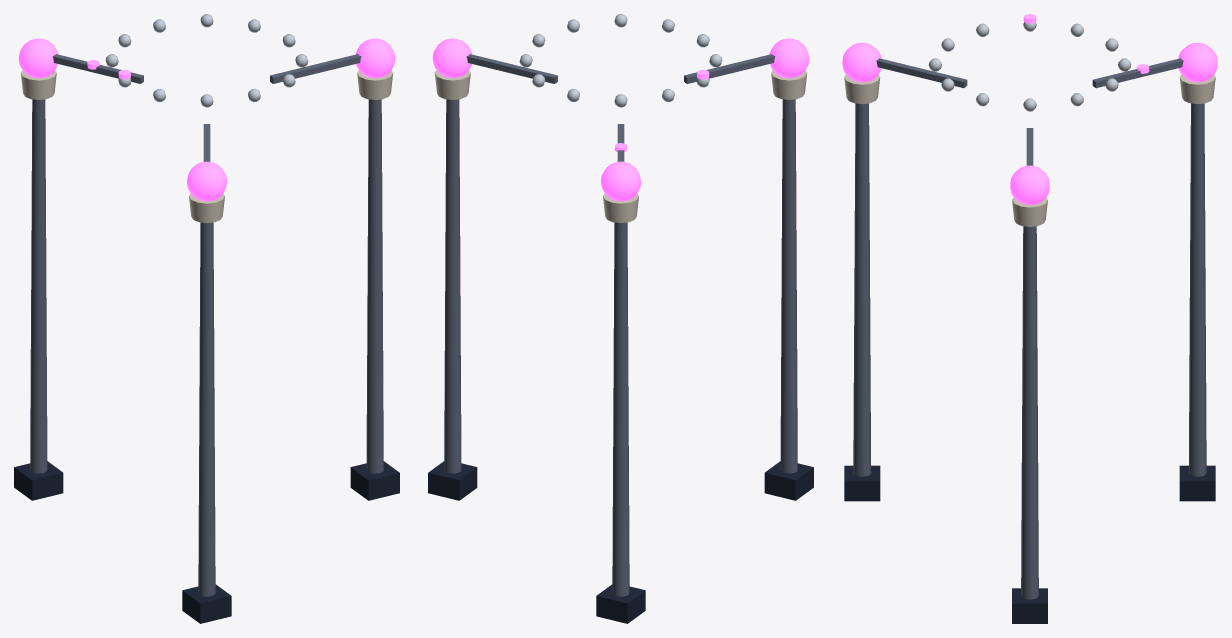
File: tower_arc_range_s4.glb
3 views of the same model, side by side, from view 1: azimuth 30°, elevation 25°; view 2: azimuth 150°, elevation 25°; view 3: azimuth 270°, elevation 25° (orthographic).
Parts seen in each view (by area): view 1: arc_sat_strut2, arc_sat_strut0, arc_sat_strut1, arc_sat_foot1, arc_sat_foot2, arc_sat_foot0, arc_sat_electrode2, arc_sat_electrode1, arc_sat_electrode0, arc_guide_arm1, arc_sat_insulator0, arc_sat_insulator1 (+2 smaller); view 2: arc_sat_strut0, arc_sat_strut1, arc_sat_strut2, arc_sat_foot1, arc_sat_foot0, arc_sat_foot2, arc_sat_electrode0, arc_sat_electrode1, arc_sat_electrode2, arc_guide_arm1, arc_sat_insulator1, arc_sat_insulator2 (+2 smaller); view 3: arc_sat_strut0, arc_sat_strut2, arc_sat_strut1, arc_sat_electrode1, arc_sat_electrode0, arc_sat_electrode2, arc_sat_foot0, arc_sat_foot2, arc_sat_foot1, arc_guide_arm2, arc_sat_insulator1, arc_guide_arm0 (+2 smaller).
Part boxes in pixels (left/top/right/bottom): arc_sat_strut2: left=198, top=222, right=215, bottom=596; arc_sat_strut0: left=30, top=99, right=47, bottom=473; arc_sat_strut1: left=366, top=99, right=383, bottom=473; arc_sat_foot1: left=350, top=461, right=399, bottom=500; arc_sat_foot2: left=182, top=584, right=231, bottom=623; arc_sat_foot0: left=14, top=461, right=63, bottom=500; arc_sat_electrode2: left=186, top=161, right=227, bottom=201; arc_sat_electrode1: left=355, top=38, right=395, bottom=78; arc_sat_electrode0: left=18, top=38, right=58, bottom=78; arc_guide_arm1: left=270, top=54, right=361, bottom=83; arc_sat_insulator0: left=20, top=70, right=56, bottom=99; arc_sat_insulator1: left=357, top=70, right=393, bottom=99; arc_sat_strut0: left=612, top=222, right=629, bottom=596; arc_sat_strut1: left=444, top=99, right=461, bottom=473; arc_sat_strut2: left=780, top=99, right=797, bottom=473; arc_sat_foot1: left=428, top=461, right=477, bottom=500; arc_sat_foot0: left=596, top=584, right=645, bottom=623; arc_sat_foot2: left=764, top=461, right=813, bottom=500; arc_sat_electrode0: left=600, top=161, right=641, bottom=201; arc_sat_electrode1: left=432, top=38, right=472, bottom=78; arc_sat_electrode2: left=769, top=38, right=809, bottom=78; arc_guide_arm1: left=466, top=54, right=557, bottom=83; arc_sat_insulator1: left=434, top=70, right=470, bottom=99; arc_sat_insulator2: left=771, top=70, right=807, bottom=99; arc_sat_strut0: left=1188, top=103, right=1206, bottom=476; arc_sat_strut2: left=853, top=103, right=871, bottom=476; arc_sat_strut1: left=1021, top=226, right=1038, bottom=599; arc_sat_electrode1: left=1010, top=165, right=1049, bottom=205; arc_sat_electrode0: left=1178, top=42, right=1217, bottom=82; arc_sat_electrode2: left=842, top=42, right=881, bottom=82; arc_sat_foot0: left=1179, top=465, right=1215, bottom=501; arc_sat_foot2: left=844, top=465, right=880, bottom=501; arc_sat_foot1: left=1012, top=588, right=1047, bottom=623; arc_guide_arm2: left=876, top=58, right=967, bottom=88; arc_sat_insulator1: left=1012, top=197, right=1047, bottom=226; arc_guide_arm0: left=1092, top=58, right=1183, bottom=88.
Size of the model in its own units: 1.47 by 2.34 by 1.67.
